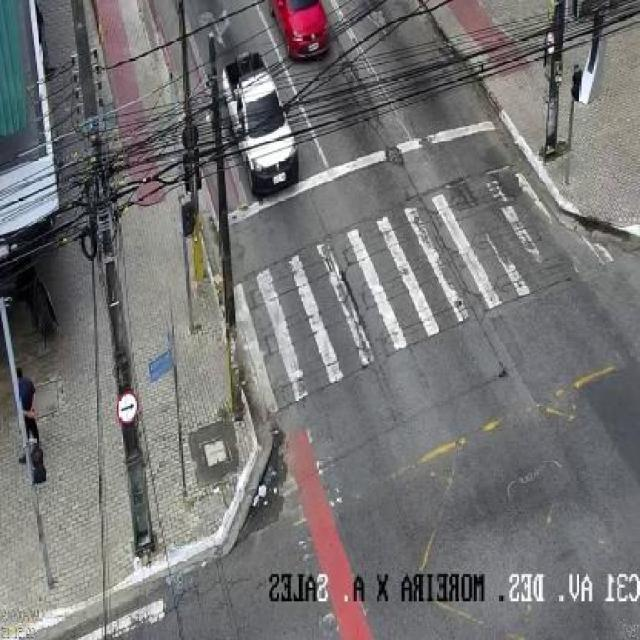Car: (267, 0, 330, 60)
Truck: (220, 51, 300, 196)
